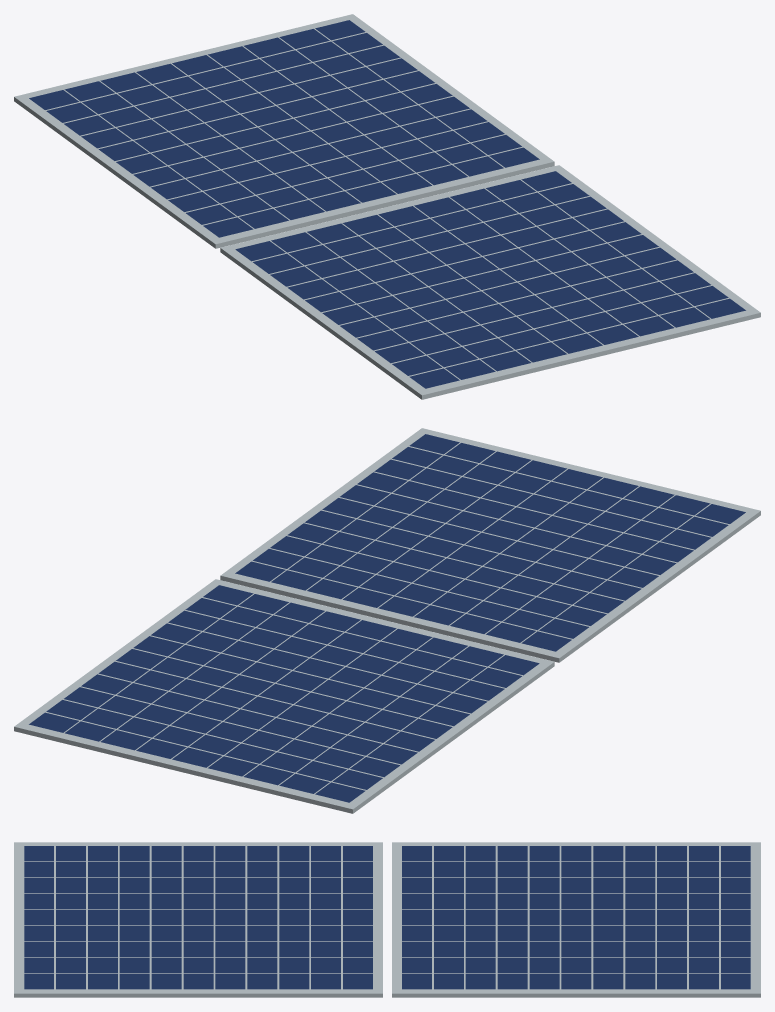
The model's file is orion_esm.wing_01.panel_01.panel_02.glb.
The picture shows the model from 3 angles, top to bottom: view 1: azimuth 30°, elevation 25°; view 2: azimuth 150°, elevation 25°; view 3: azimuth 270°, elevation 25°; orthographic projection. The views are drawn at different scales.
Visible parts, largest first — view 1: orion_esm.wing_01.panel_01.panel_02.cells.mesh_Indigo_solar_, orion_esm.wing_01.panel_01.panel_02.panel_03.cells.mesh_Indi, orion_esm.wing_01.panel_01.panel_02.cells.mesh_Satin_aluminu, orion_esm.wing_01.panel_01.panel_02.panel_03.cells.mesh_Sati; view 2: orion_esm.wing_01.panel_01.panel_02.panel_03.cells.mesh_Indi, orion_esm.wing_01.panel_01.panel_02.cells.mesh_Indigo_solar_, orion_esm.wing_01.panel_01.panel_02.panel_03.cells.mesh_Sati, orion_esm.wing_01.panel_01.panel_02.cells.mesh_Satin_aluminu; view 3: orion_esm.wing_01.panel_01.panel_02.cells.mesh_Indigo_solar_, orion_esm.wing_01.panel_01.panel_02.panel_03.cells.mesh_Indi, orion_esm.wing_01.panel_01.panel_02.cells.mesh_Satin_aluminu, orion_esm.wing_01.panel_01.panel_02.panel_03.cells.mesh_Sati.
Part boxes in pixels (<box>): orion_esm.wing_01.panel_01.panel_02.cells.mesh_Indigo_solar_: <box>29,20,539,237</box>; orion_esm.wing_01.panel_01.panel_02.panel_03.cells.mesh_Indi: <box>235,171,745,388</box>; orion_esm.wing_01.panel_01.panel_02.cells.mesh_Satin_aluminu: <box>14,14,554,248</box>; orion_esm.wing_01.panel_01.panel_02.panel_03.cells.mesh_Sati: <box>220,165,760,399</box>; orion_esm.wing_01.panel_01.panel_02.panel_03.cells.mesh_Indi: <box>235,434,745,651</box>; orion_esm.wing_01.panel_01.panel_02.cells.mesh_Indigo_solar_: <box>29,585,539,802</box>; orion_esm.wing_01.panel_01.panel_02.panel_03.cells.mesh_Sati: <box>220,428,760,662</box>; orion_esm.wing_01.panel_01.panel_02.cells.mesh_Satin_aluminu: <box>14,579,554,813</box>; orion_esm.wing_01.panel_01.panel_02.cells.mesh_Indigo_solar_: <box>402,846,750,989</box>; orion_esm.wing_01.panel_01.panel_02.panel_03.cells.mesh_Indi: <box>24,846,372,989</box>; orion_esm.wing_01.panel_01.panel_02.cells.mesh_Satin_aluminu: <box>392,842,760,997</box>; orion_esm.wing_01.panel_01.panel_02.panel_03.cells.mesh_Sati: <box>14,842,382,997</box>.
Size of the model in its own units: 1.65 by 0.0225 by 3.44.
